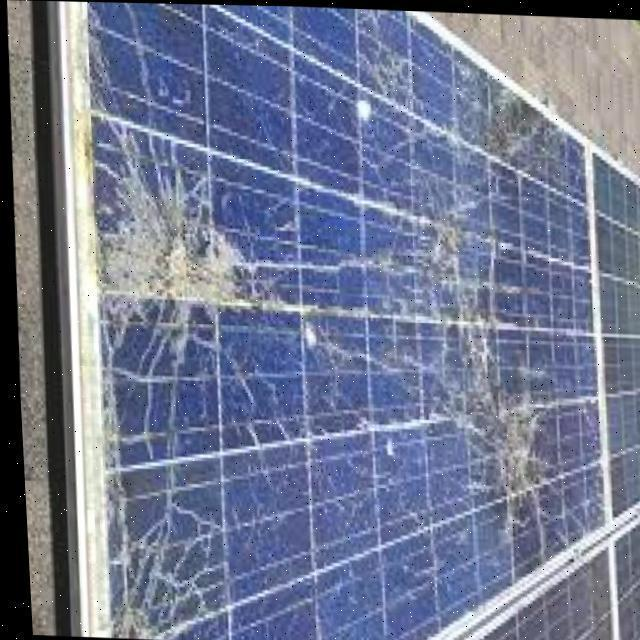Anomaly Solar Panel: (62, 1, 599, 640)
Structural Damage: (90, 132, 264, 376), (98, 475, 224, 640), (392, 200, 493, 368), (467, 375, 550, 527), (330, 18, 420, 142), (444, 94, 556, 175)
